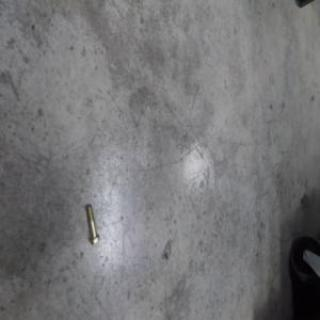Bolttrack_idkeyframe: (85, 202, 99, 245)
